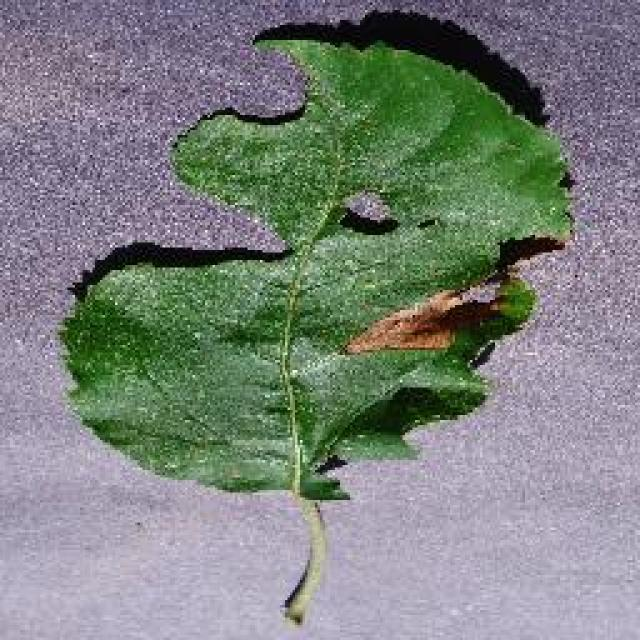Apple___Black_rot: (54, 33, 580, 507)
